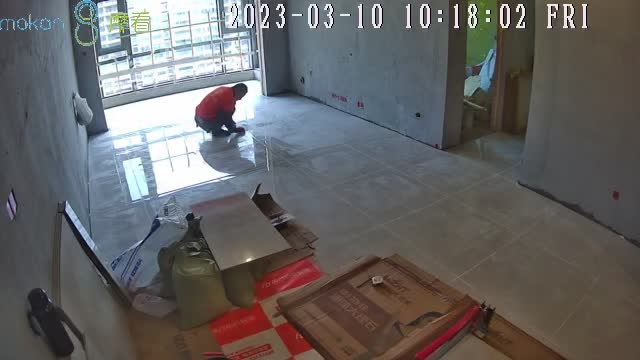people: (194, 81, 248, 137)
window: (93, 1, 260, 100)
